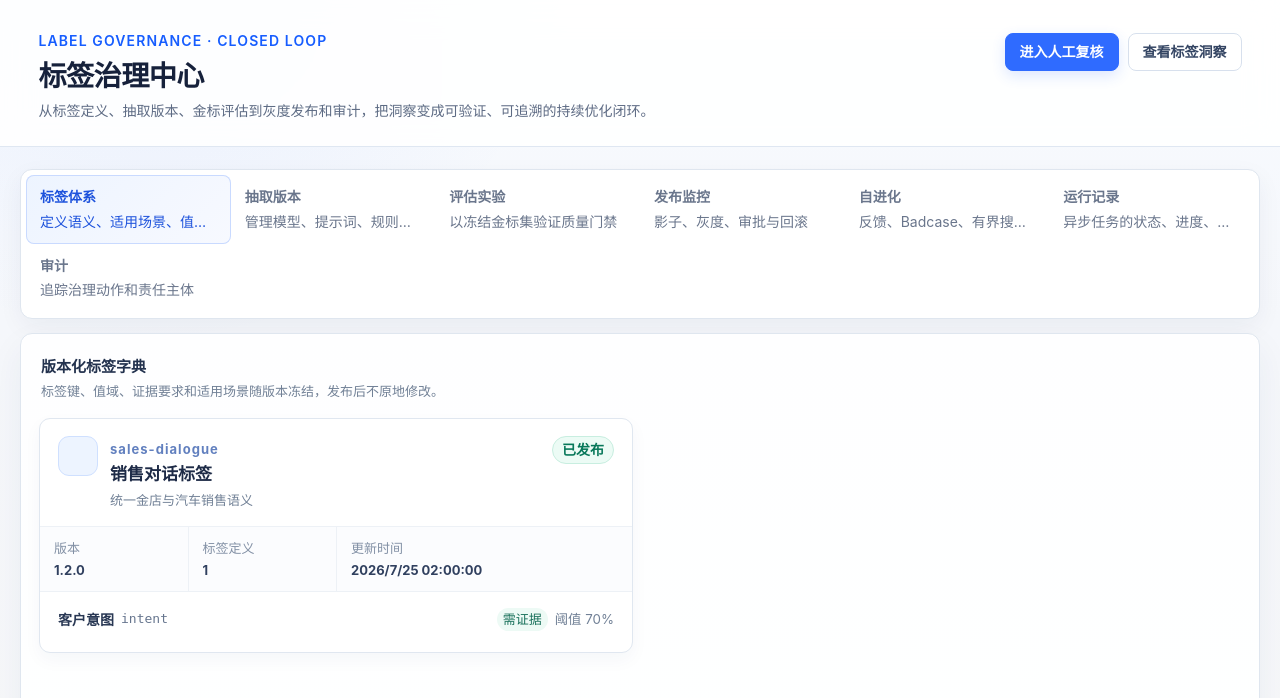
Test: TagGovernancePage › keeps inspector governance actions read-only outside review, gold and evaluation
The width and height of the screenshot is (1280, 698).
Check: the heading "销售对话标签" is shown, box [110, 464, 212, 484]
Click the tab "抽取版本 管理模型、提示词、规则与阈值版本" at (333,210), box [231, 175, 435, 244]
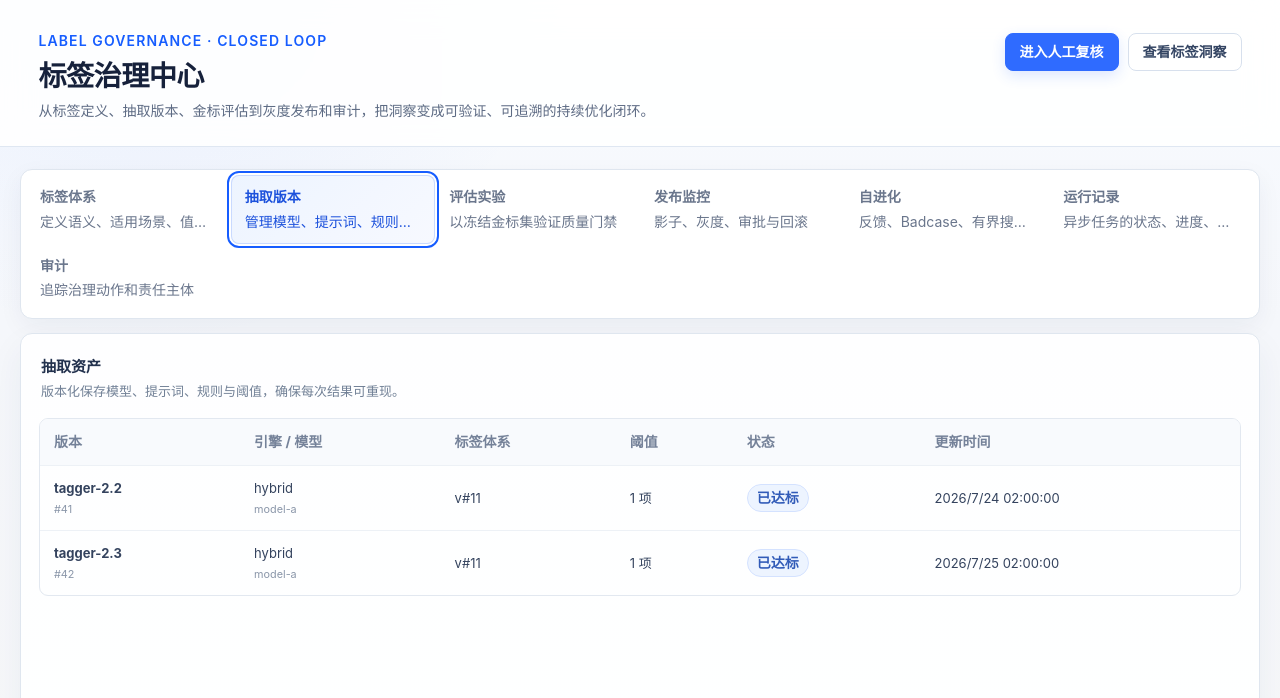
Check: the text "tagger-2.3" is shown, box [54, 545, 122, 561]
Click the tab "评估实验 以冻结金标集验证质量门禁" at (538,210), box [435, 175, 640, 244]
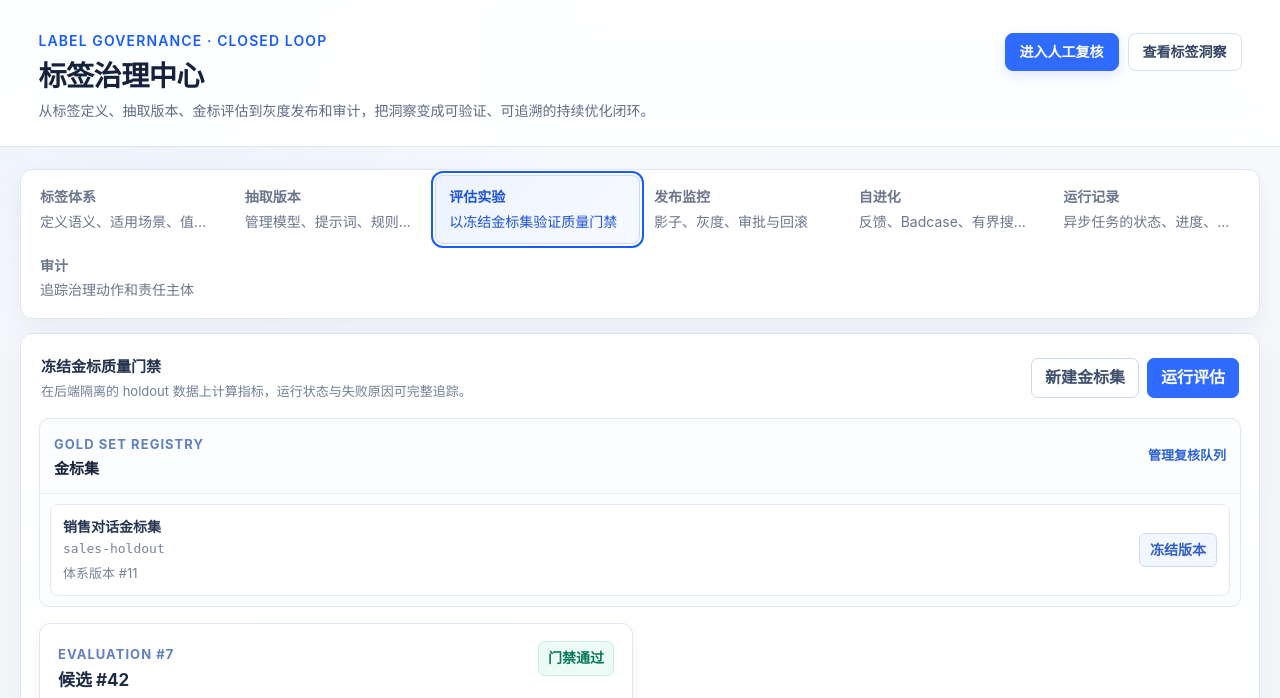
Check: the button "运行评估" is shown, box [1147, 358, 1239, 398]
Check: the button "新建金标集" is shown, box [1031, 358, 1139, 398]
Click the tab "发布监控 影子、灰度、审批与回滚" at (742,210), box [640, 175, 845, 244]
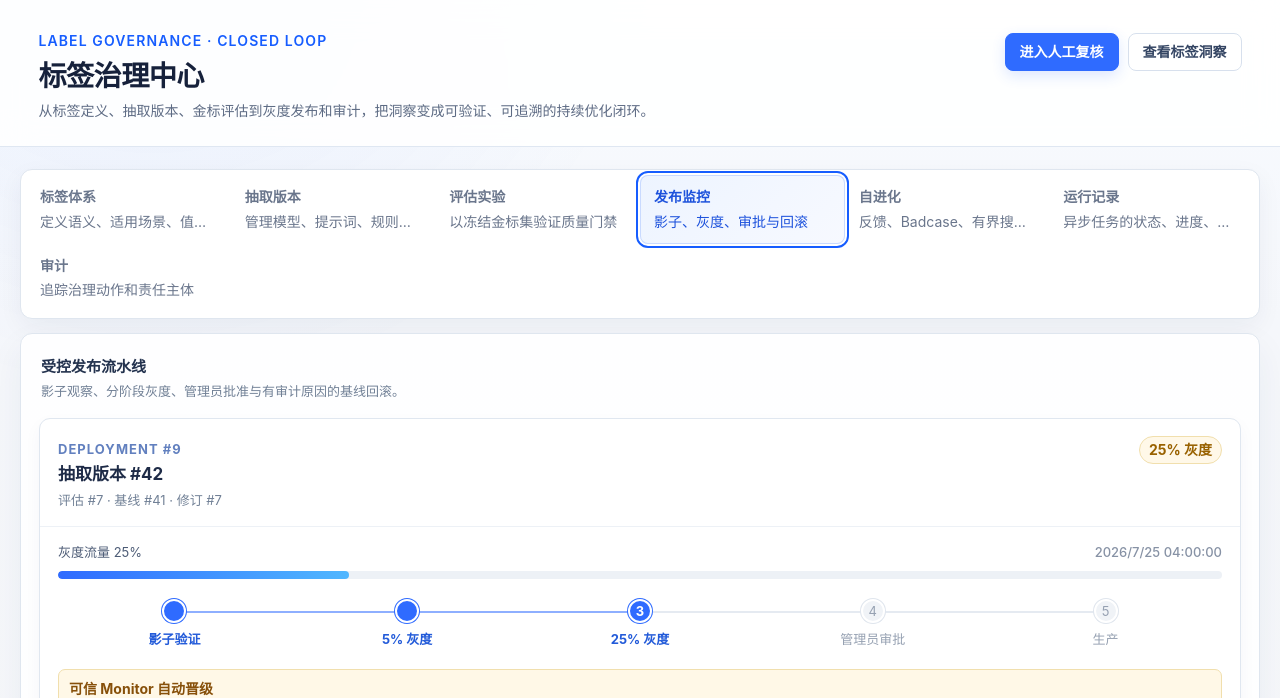
Check: the text "灰度流量 25%" is shown, box [58, 542, 142, 562]
